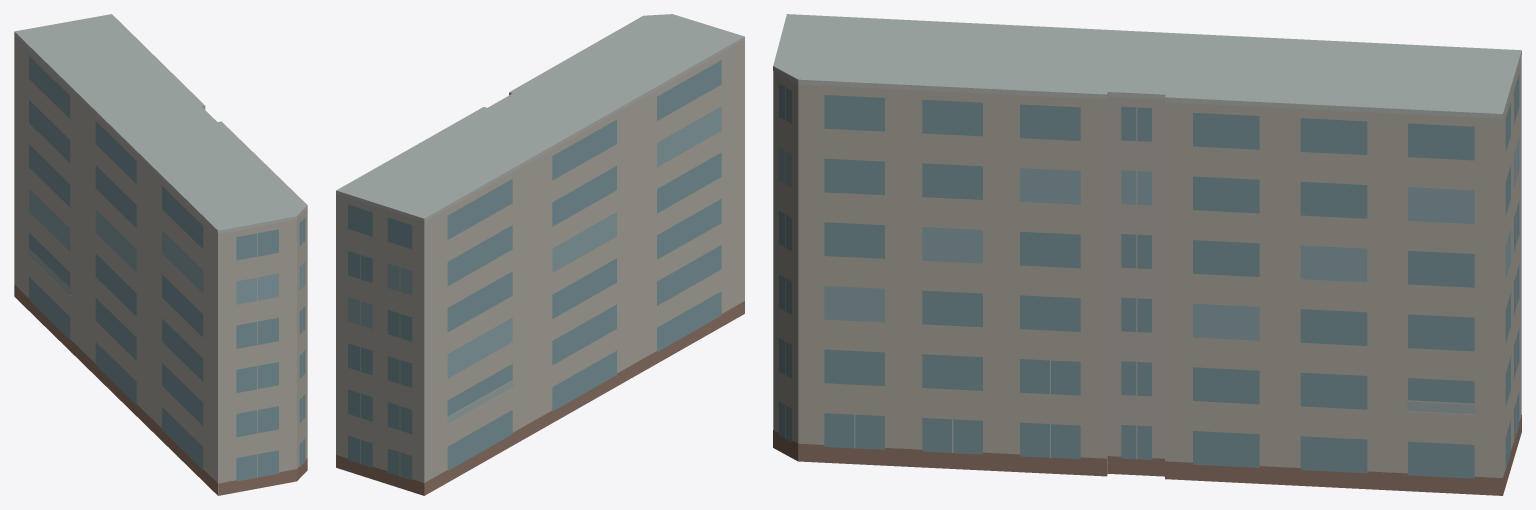
Rendered from survey-upis-32567210.glb.
3 views of the same model, side by side, from view 1: azimuth 30°, elevation 25°; view 2: azimuth 150°, elevation 25°; view 3: azimuth 270°, elevation 25° (orthographic). The views are drawn at different scales.
Visible parts, largest first — view 1: survey-upis-32567210.tmp; view 2: survey-upis-32567210.tmp; view 3: survey-upis-32567210.tmp.
Boxes of the visible parts, box(x1,y1,x2,y2) form: survey-upis-32567210.tmp: box(14, 14, 307, 495); survey-upis-32567210.tmp: box(336, 14, 744, 495); survey-upis-32567210.tmp: box(773, 14, 1521, 495).
Bounding box in the file's own units: 10.67 × 18.96 × 33.7.
